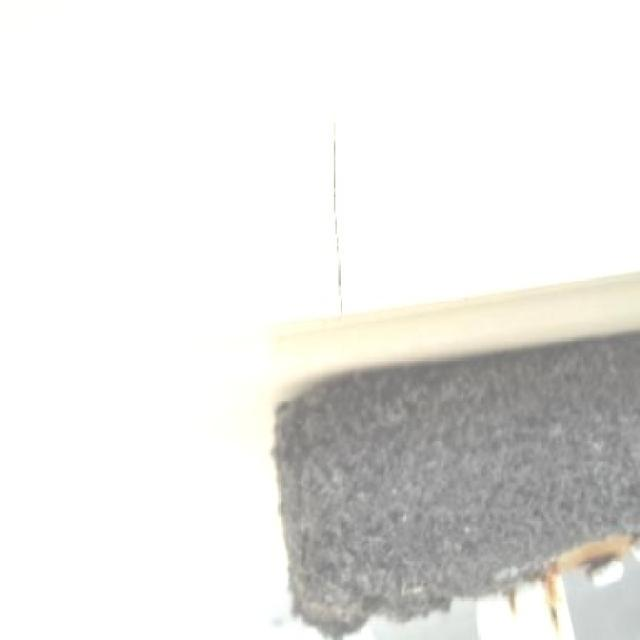crack: (332, 121, 345, 317)
